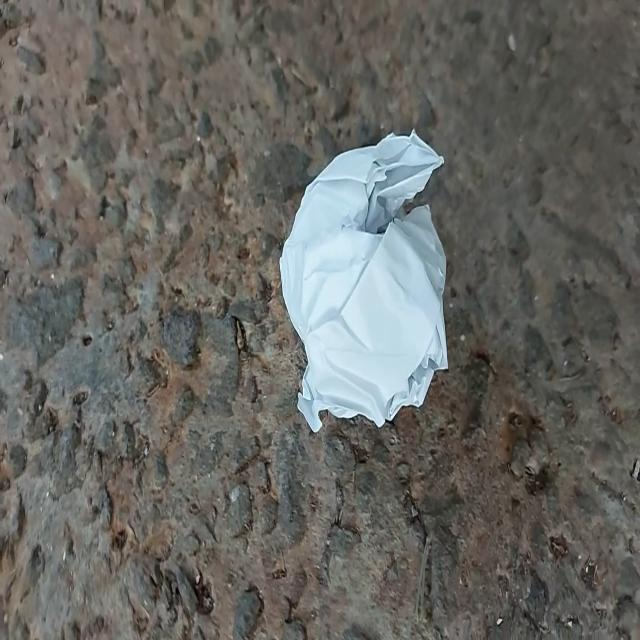Paper: (259, 103, 466, 433)
